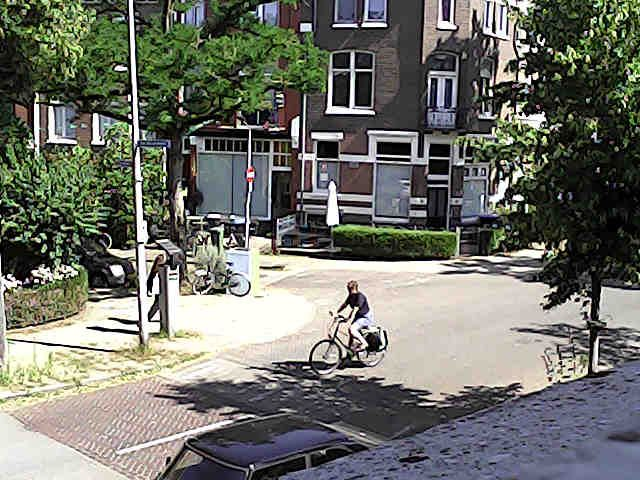male: (337, 280, 373, 350)
suv: (158, 414, 379, 479)
